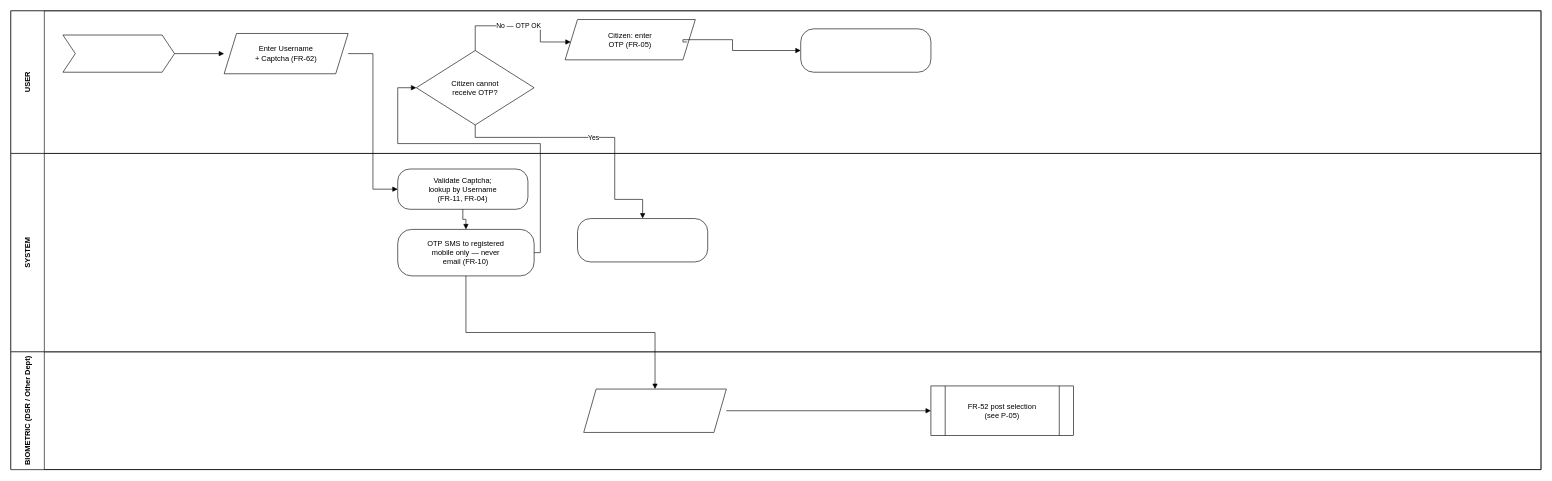
Some shapes in this 1552 by 481 pixel diagram are drawn without their labels. Each missing label, with the centre of its shape:
"Citizen home / profile (FR-13)" belongs at (x=865, y=50).
"DSR / Other Dept: enter OTP + Biometrics (FR-06/07)" belongs at (x=654, y=410).
"Open login screen" belongs at (x=118, y=53).
"See P-03 lost-mobile reset (FR-56)" belongs at (x=642, y=240).
